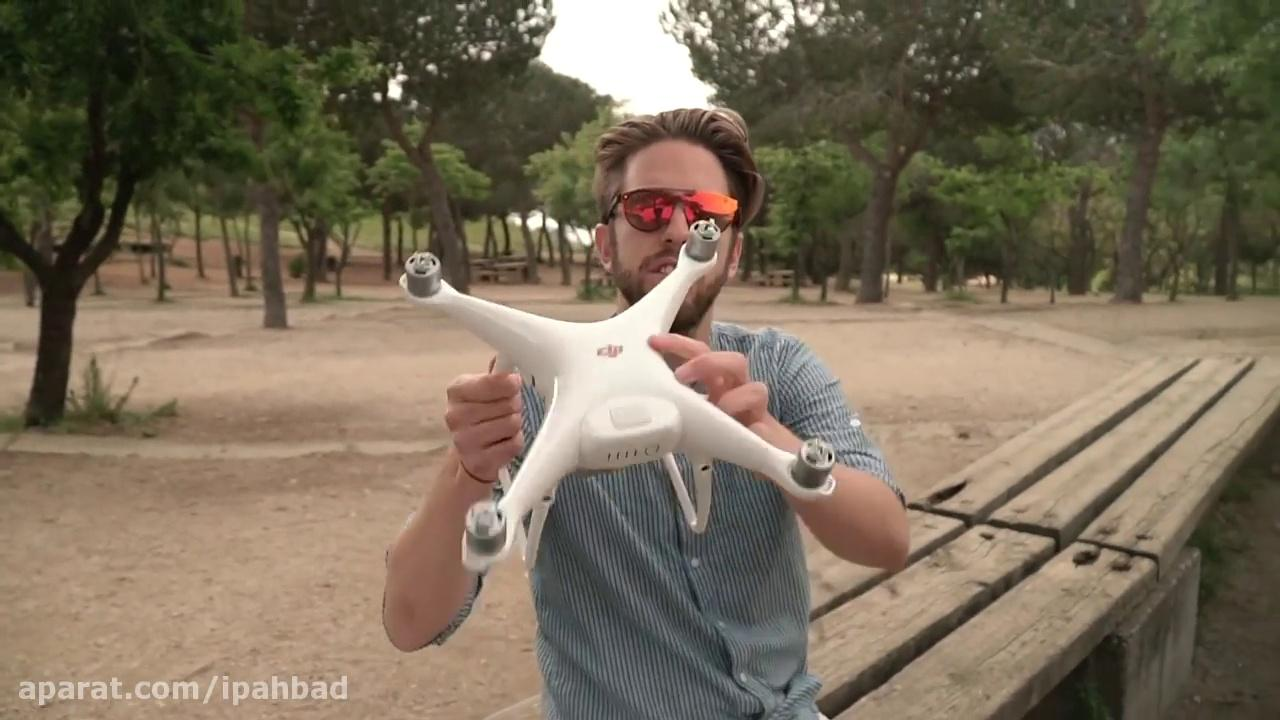drone: (396, 216, 839, 572)
